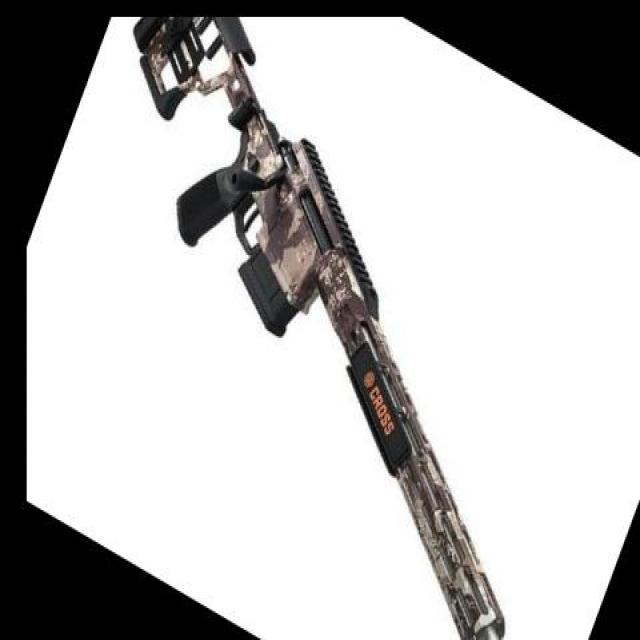weapon: (132, 17, 507, 640)
